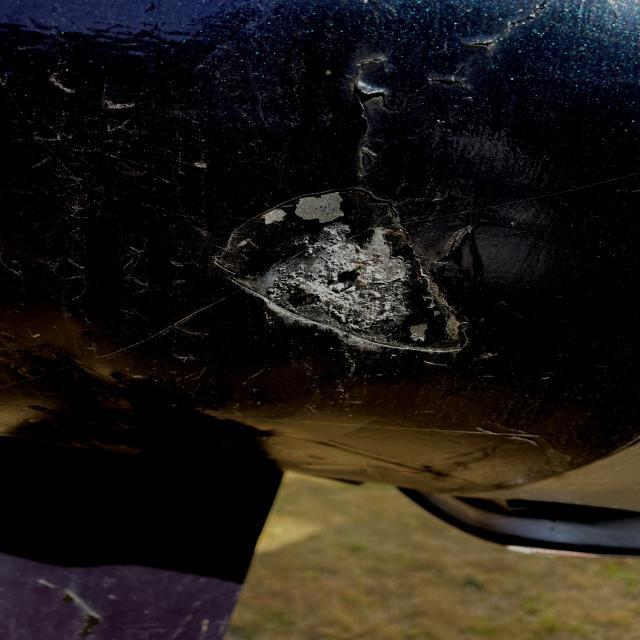crack: (337, 56, 402, 124), (463, 16, 542, 53), (425, 63, 478, 115)
dent: (203, 172, 483, 377)
